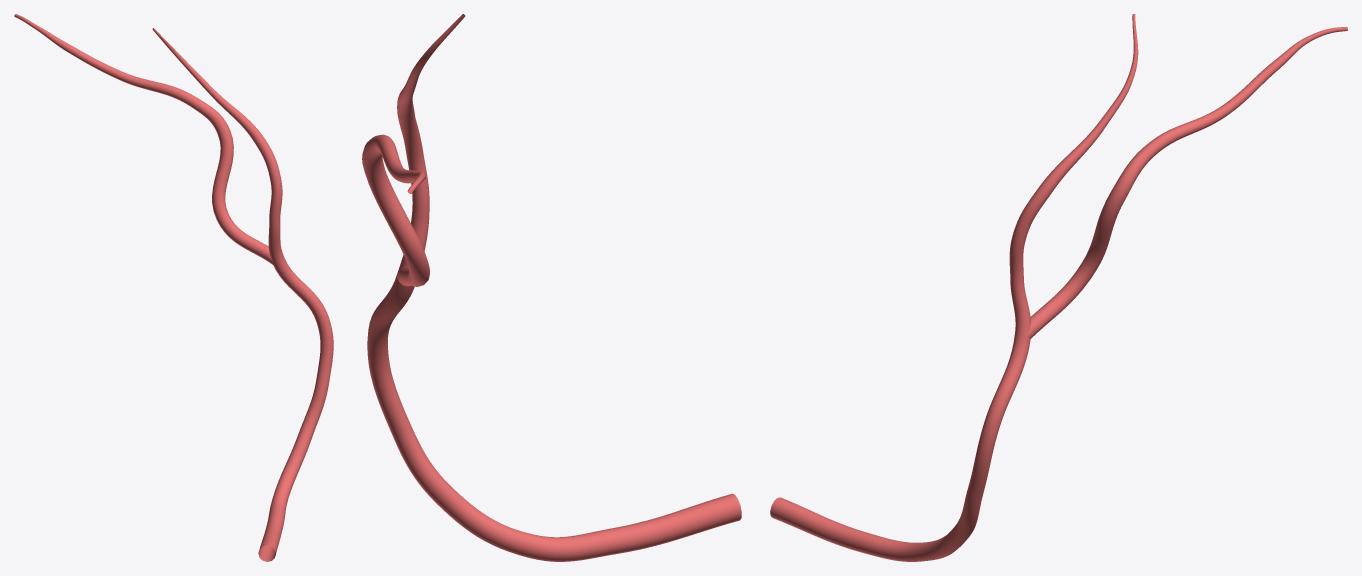
File: Artery_of_postcentral_sulcus.l_BezierCurve.104.glb
3 renders of one model, left to right at view 1: azimuth 30°, elevation 25°; view 2: azimuth 150°, elevation 25°; view 3: azimuth 270°, elevation 25°, orthographic. The views are drawn at different scales.
Parts seen in each view (by area): view 1: Artery_of_postcentral_sulcus.l_BezierCurve.104; view 2: Artery_of_postcentral_sulcus.l_BezierCurve.104; view 3: Artery_of_postcentral_sulcus.l_BezierCurve.104.
Boxes of the visible parts, x1,y1,x2,y2 form: Artery_of_postcentral_sulcus.l_BezierCurve.104: (14,14,333,561); Artery_of_postcentral_sulcus.l_BezierCurve.104: (362,14,741,561); Artery_of_postcentral_sulcus.l_BezierCurve.104: (770,14,1347,561).
Bounding box in the file's own units: 0.0179 × 0.0423 × 0.0417.
